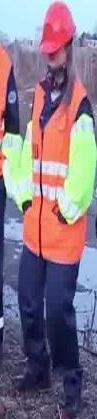boots: (14, 348, 48, 391), (0, 314, 21, 370)
gloves: (0, 162, 7, 194), (0, 154, 7, 186)
hard-hat: (38, 0, 76, 55)
vest: (0, 9, 49, 190)
